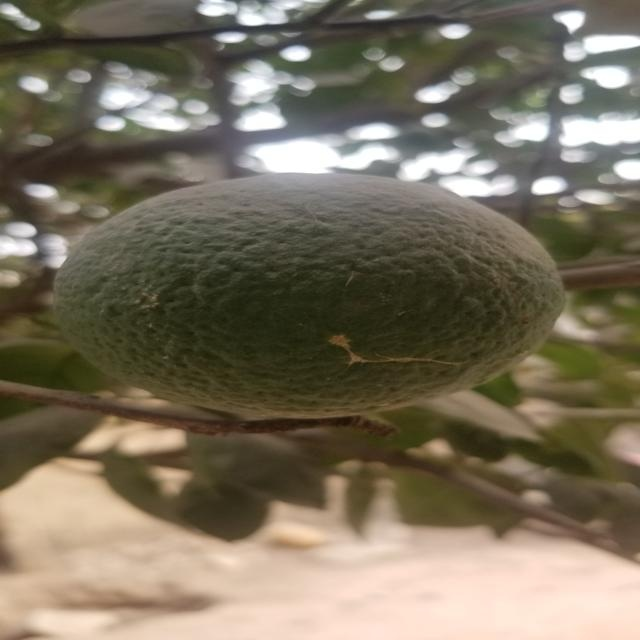agrume: (39, 175, 565, 419)
